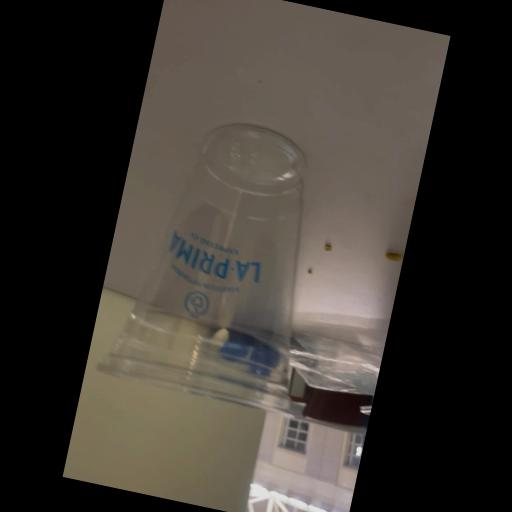lp_plastic_cup: (92, 104, 348, 422)
